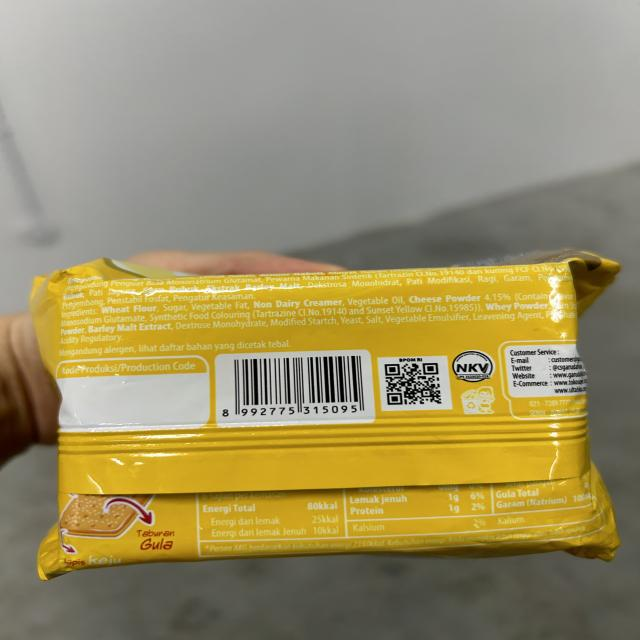object_name: (57, 281, 601, 546)
